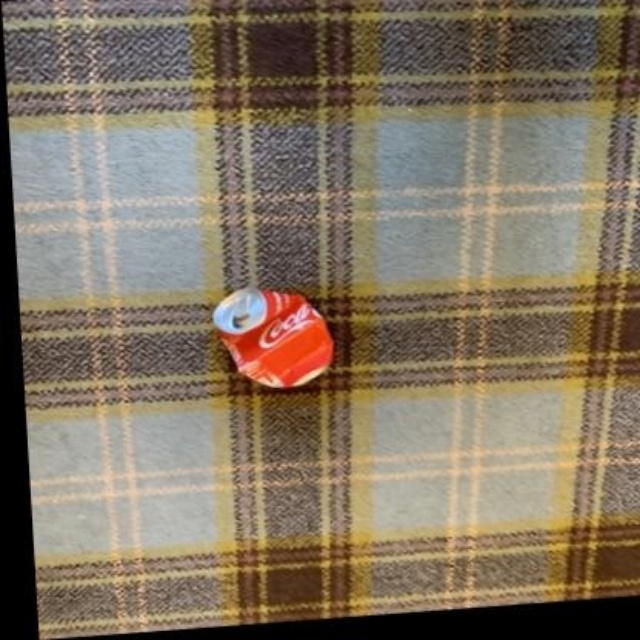trash: (212, 288, 332, 386)
